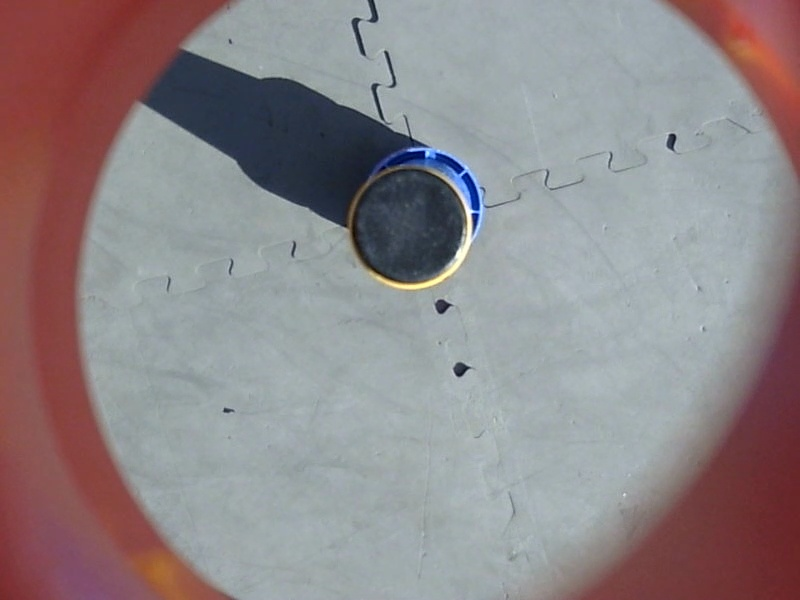tip: (338, 157, 481, 300)
